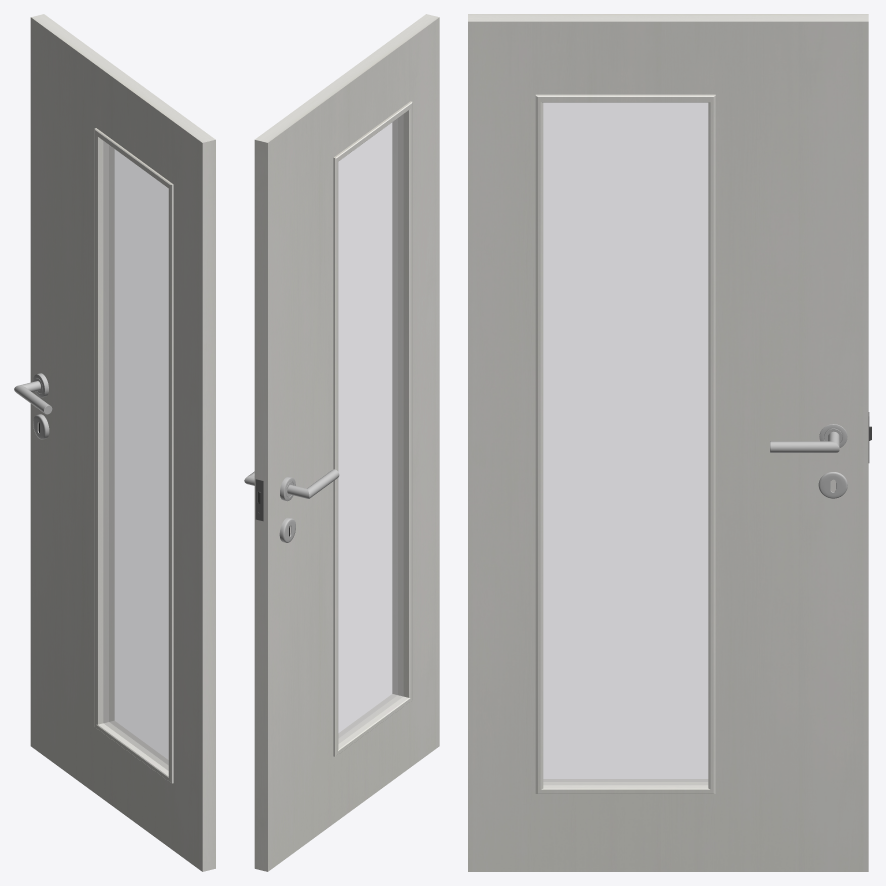
File: door25.glb
3 renders of one model, left to right at view 1: azimuth 30°, elevation 25°; view 2: azimuth 150°, elevation 25°; view 3: azimuth 270°, elevation 25°, orthographic. The views are drawn at different scales.
Visible parts, largest first — view 1: TB-LA3B, Door_Handle_01; view 2: TB-LA3B, Door_Handle_01; view 3: TB-LA3B, Door_Handle_01.
Part boxes in pixels (x1,y1,x2,y2): TB-LA3B: (30, 14, 215, 871); Door_Handle_01: (14, 373, 52, 439); TB-LA3B: (254, 14, 439, 871); Door_Handle_01: (244, 469, 339, 542); TB-LA3B: (468, 14, 871, 871); Door_Handle_01: (770, 424, 847, 498).
Bounding box in the file's own units: 0.1566 × 1.67 × 0.7188.
Materials: 6 (1 with a texture image).
